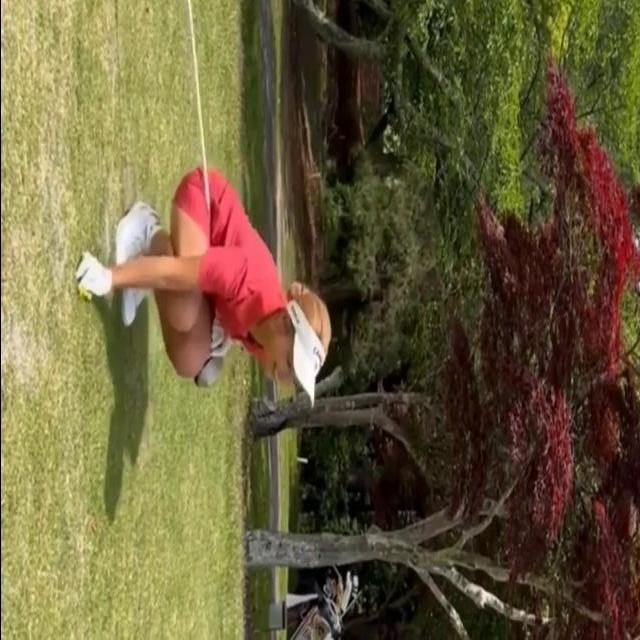golf club-handle: (170, 0, 226, 396)
golf club-head: (193, 354, 223, 390)
